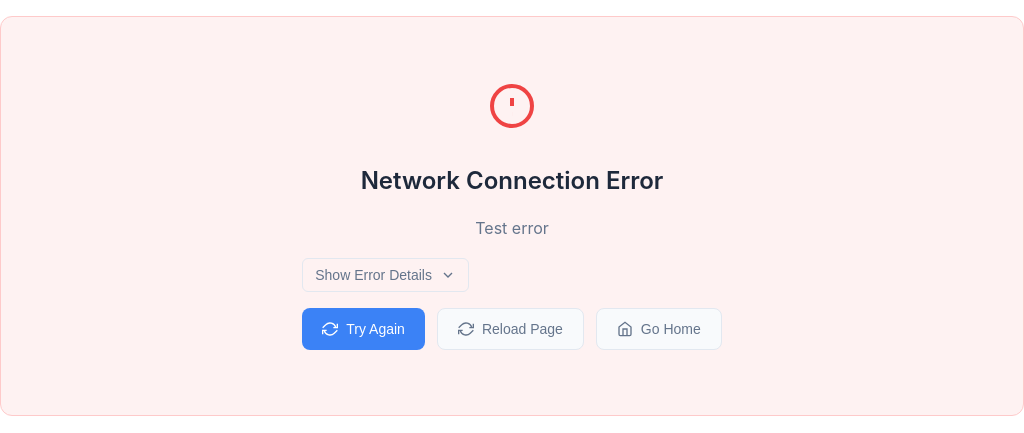
Test: ErrorBoundary › should show loading state during retry
This screenshot has width=1024, height=433.
// Click retry button
Click the button with class "error-boundary__action--primary" at (364, 329), box left=302, top=308, right=425, bottom=350
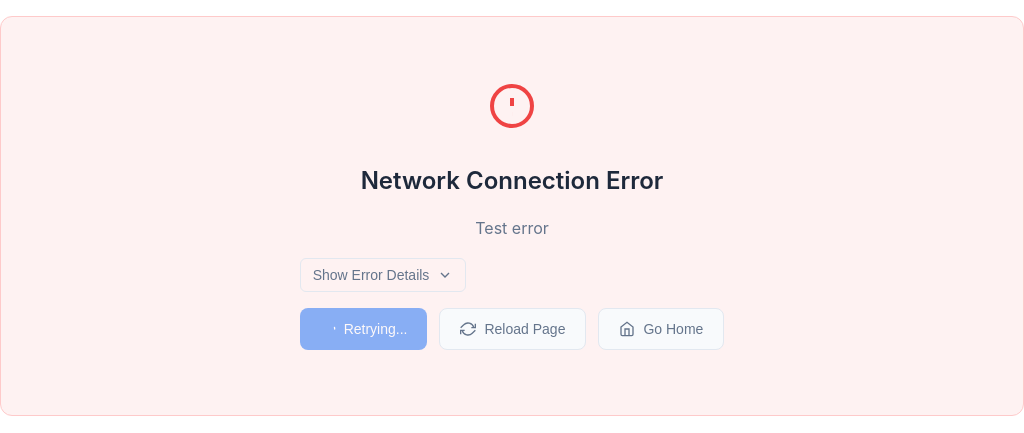
Result: the button with class "error-boundary__action--primary" reads "Retrying..." at left=300, top=308, right=428, bottom=350
Result: the button with class "error-boundary__action--primary" is disabled at left=300, top=308, right=428, bottom=350
Result: the icon with class "error-boundary__spinner" is shown at left=320, top=321, right=336, bottom=337
